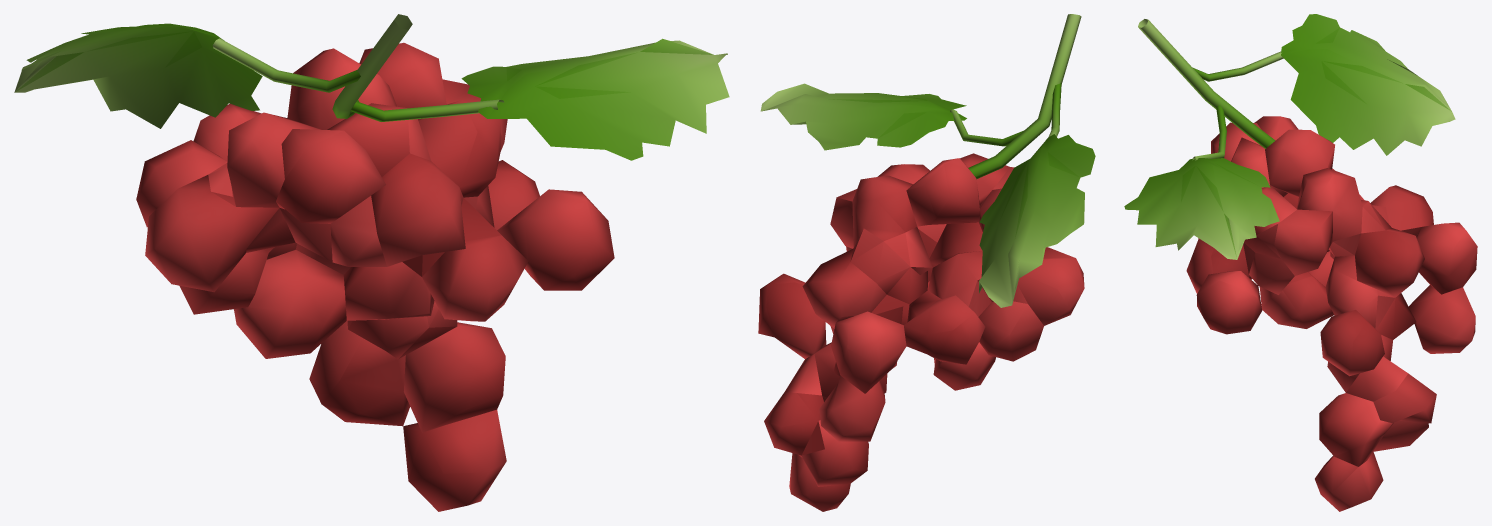
The model's file is grapered.fbx.
The picture shows the model from 3 angles, left to right: view 1: azimuth 30°, elevation 25°; view 2: azimuth 150°, elevation 25°; view 3: azimuth 270°, elevation 25°; orthographic projection. The views are drawn at different scales.
Parts seen in each view (by area): view 1: grapered; view 2: grapered; view 3: grapered.
Boxes of the visible parts, x1=… form: grapered: x1=14, y1=14, x2=729, y2=511; grapered: x1=758, y1=14, x2=1095, y2=511; grapered: x1=1124, y1=14, x2=1477, y2=511.
Size of the model in its own units: 53.58 by 57.35 by 43.53.
1 material, 1 textured.
